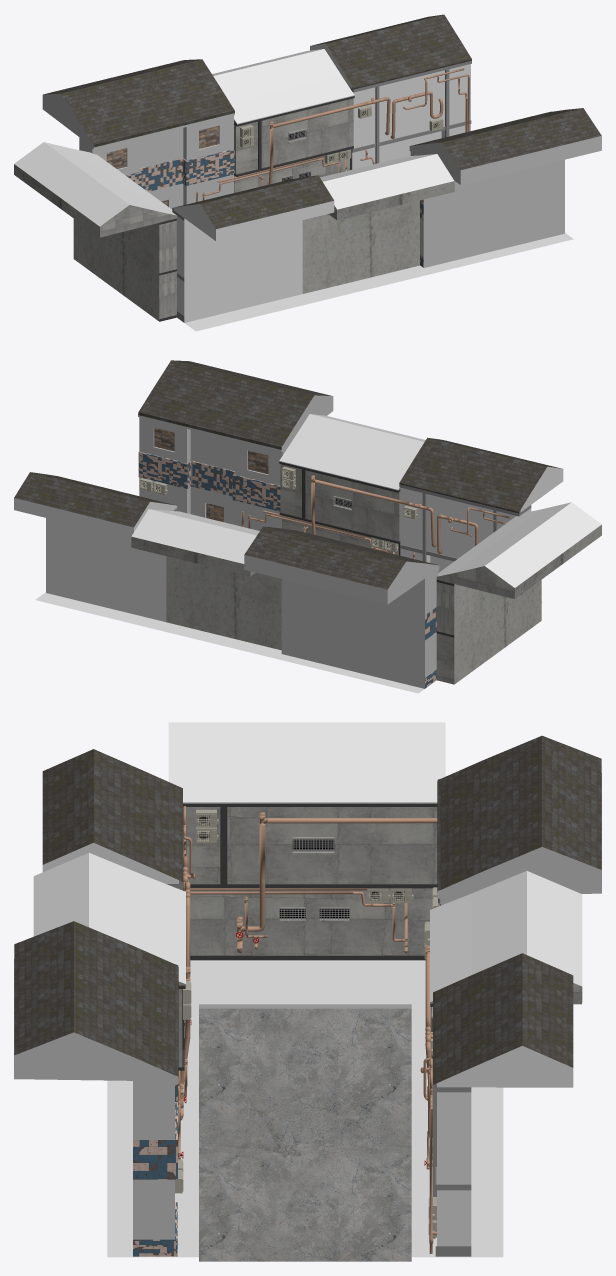
The model's file is end_city.fbx.
3 views of the same model, one above another, from view 1: azimuth 30°, elevation 25°; view 2: azimuth 150°, elevation 25°; view 3: azimuth 270°, elevation 25° (orthographic). The views are drawn at different scales.
Visible parts, largest first — view 1: Bat3.003, Bat3.002, Bat2.002, Bat2.003, Bat1.005, Bat1.003, Bat1.002, start_path.001; view 2: Bat3.002, Bat3.003, Bat1.005, Bat1.002, Bat2.003, Bat2.002, Bat1.003, start_path.001; view 3: start_path.001, Bat1.005, Bat3.002, Bat2.003, Bat3.003, Bat2.002, Bat1.003, Bat1.002.
Boxes of the visible parts, box(x1,y1,x2,y2) form: Bat3.003: box(42, 59, 235, 209); Bat3.002: box(409, 108, 601, 267); Bat2.002: box(172, 175, 334, 322); Bat2.003: box(310, 14, 471, 169); Bat1.005: box(14, 142, 176, 321); Bat1.003: box(212, 49, 355, 192); Bat1.002: box(302, 154, 454, 293); start_path.001: box(185, 233, 573, 331); Bat3.002: box(138, 360, 333, 530); Bat3.003: box(244, 526, 439, 688); Bat1.005: box(436, 502, 601, 684); Bat1.002: box(279, 414, 425, 555); Bat2.003: box(14, 472, 178, 621); Bat2.002: box(397, 437, 563, 572); Bat1.003: box(131, 509, 281, 650); start_path.001: box(35, 592, 542, 693); start_path.001: box(107, 960, 503, 1261); Bat1.005: box(168, 722, 445, 960); Bat3.002: box(14, 921, 183, 1256); Bat2.003: box(420, 953, 573, 1256); Bat3.003: box(432, 735, 601, 908); Bat2.002: box(42, 749, 195, 1025); Bat1.003: box(424, 871, 582, 1058); Bat1.002: box(33, 853, 191, 1120).
Bounding box in the file's own units: 19475 × 5794 × 13513.
